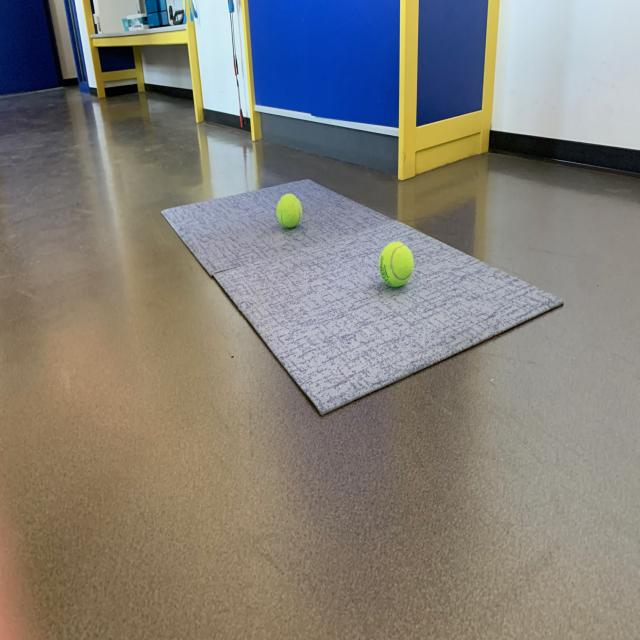Tennis-Ball: (377, 240, 416, 290), (274, 190, 305, 233)
